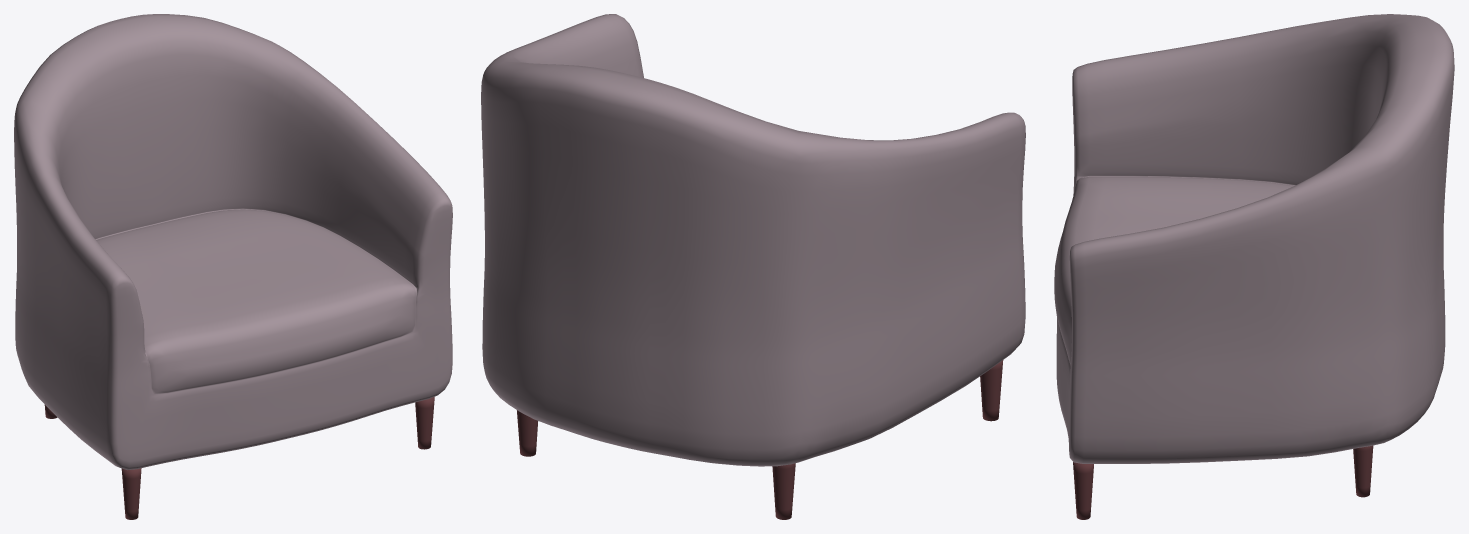
File: IKEA-Tullsta_Armchair-3D.obj
The picture shows the model from 3 angles, left to right: view 1: azimuth 30°, elevation 25°; view 2: azimuth 150°, elevation 25°; view 3: azimuth 270°, elevation 25°; orthographic projection. The views are drawn at different scales.
Visible parts, largest first — view 1: Loft02, Object01; view 2: Loft02, Object01; view 3: Loft02, Object01.
Part boxes in pixels (x1,y1,x2,y2): Loft02: (14,14,452,470); Object01: (44,397,434,519); Loft02: (481,14,1025,466); Object01: (517,360,1003,519); Loft02: (1054,14,1454,463); Object01: (1073,445,1373,519).
Size of the model in its own units: 66.21 by 64.09 by 59.28.
